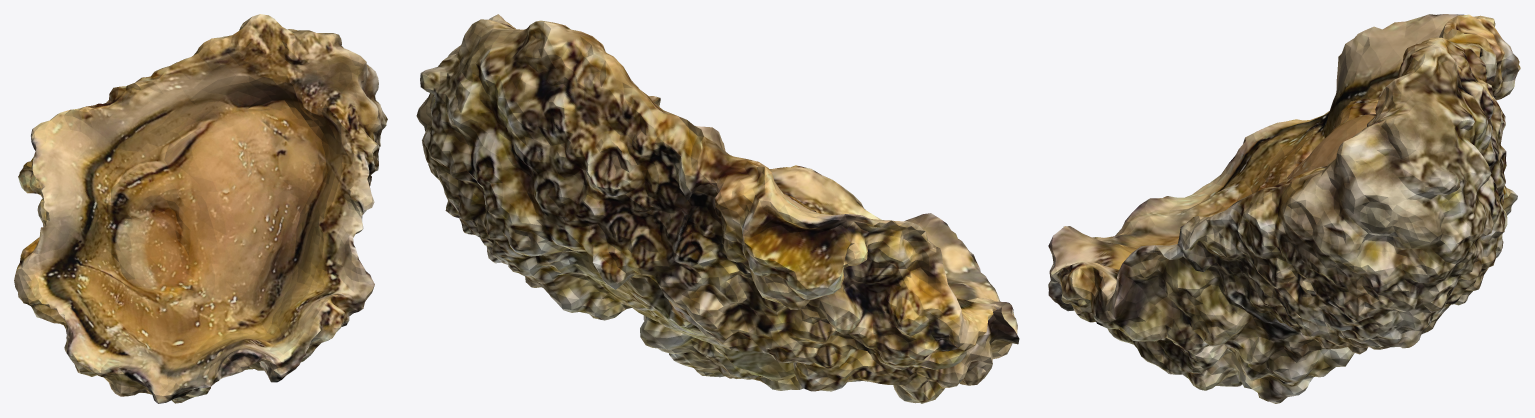
Rendered from willapa-bay-top-internals.glb.
3 renders of one model, left to right at view 1: azimuth 30°, elevation 25°; view 2: azimuth 150°, elevation 25°; view 3: azimuth 270°, elevation 25°, orthographic. The views are drawn at different scales.
Bounding box in the file's own units: 0.3641 × 0.2663 × 0.2884.
1 material, 1 textured.
